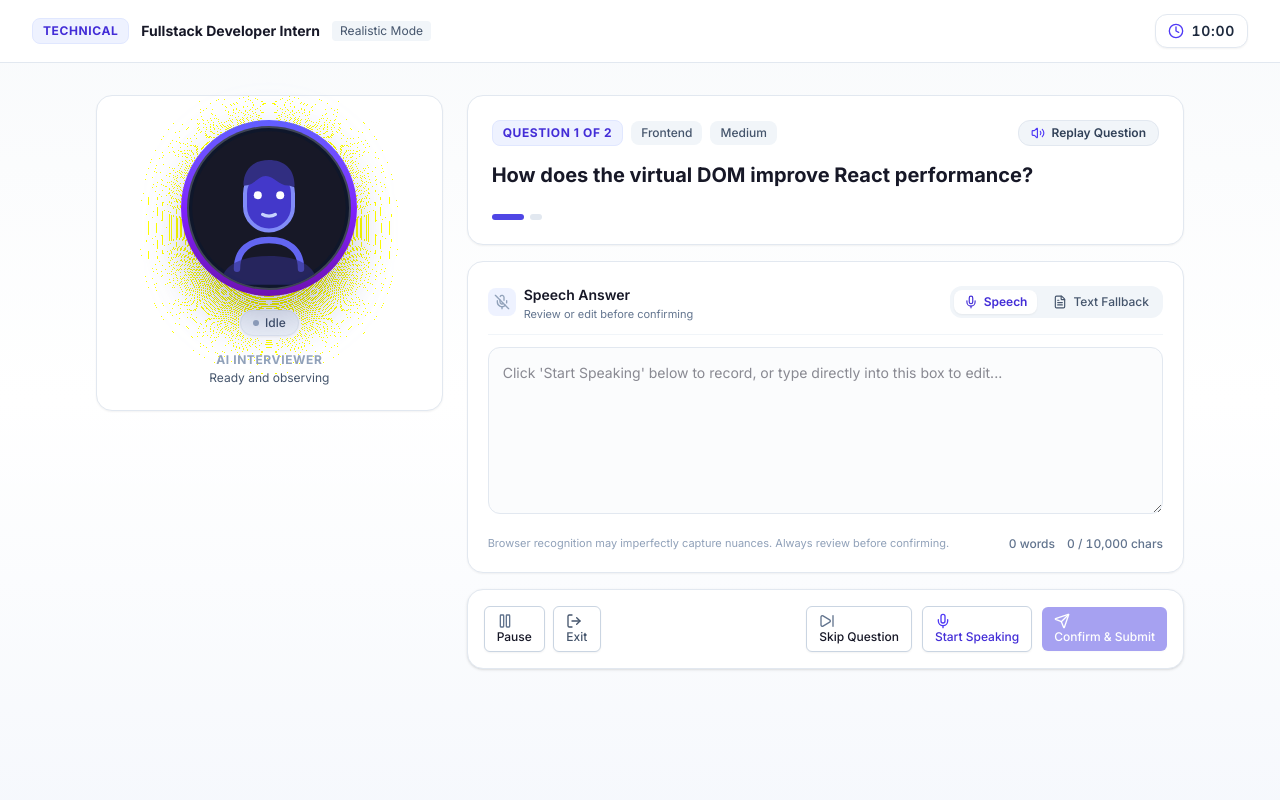
Test: InterviewRoomPage Full Integration › allows entering text answer and submitting to server
The width and height of the screenshot is (1280, 800).
Expected: the heading "How does the virtual DOM improve React performance?" is shown, [492,163,1033,187]
Note: Switch to Text Fallback mode
Step 1. Click the button "Text Fallback" → (1101, 302), box [1044,290,1159,314]
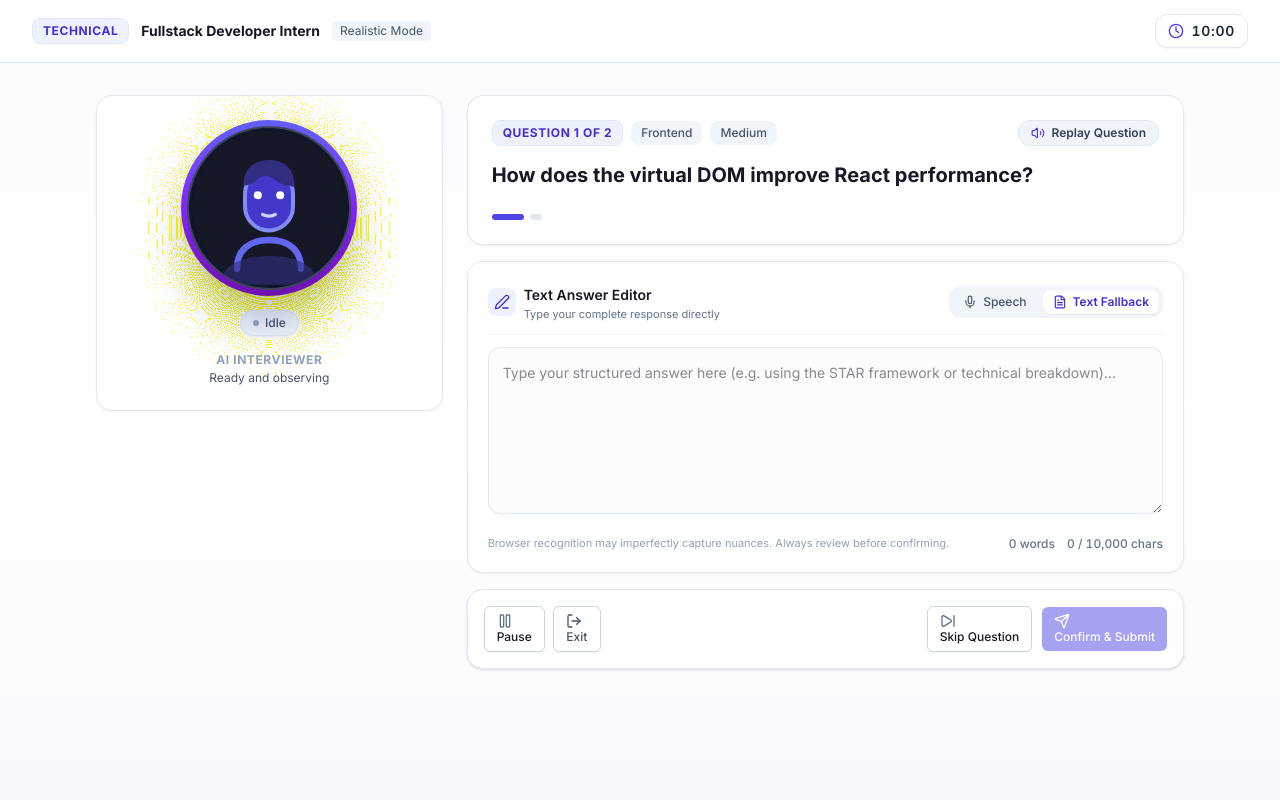
Note: Type answer
Step 2. Replace the text in the text box named "answer transcript and editor" with "The virtual DOM batches updates and computes minimal DOM diffs." → (825, 430), box [488,347,1163,514]
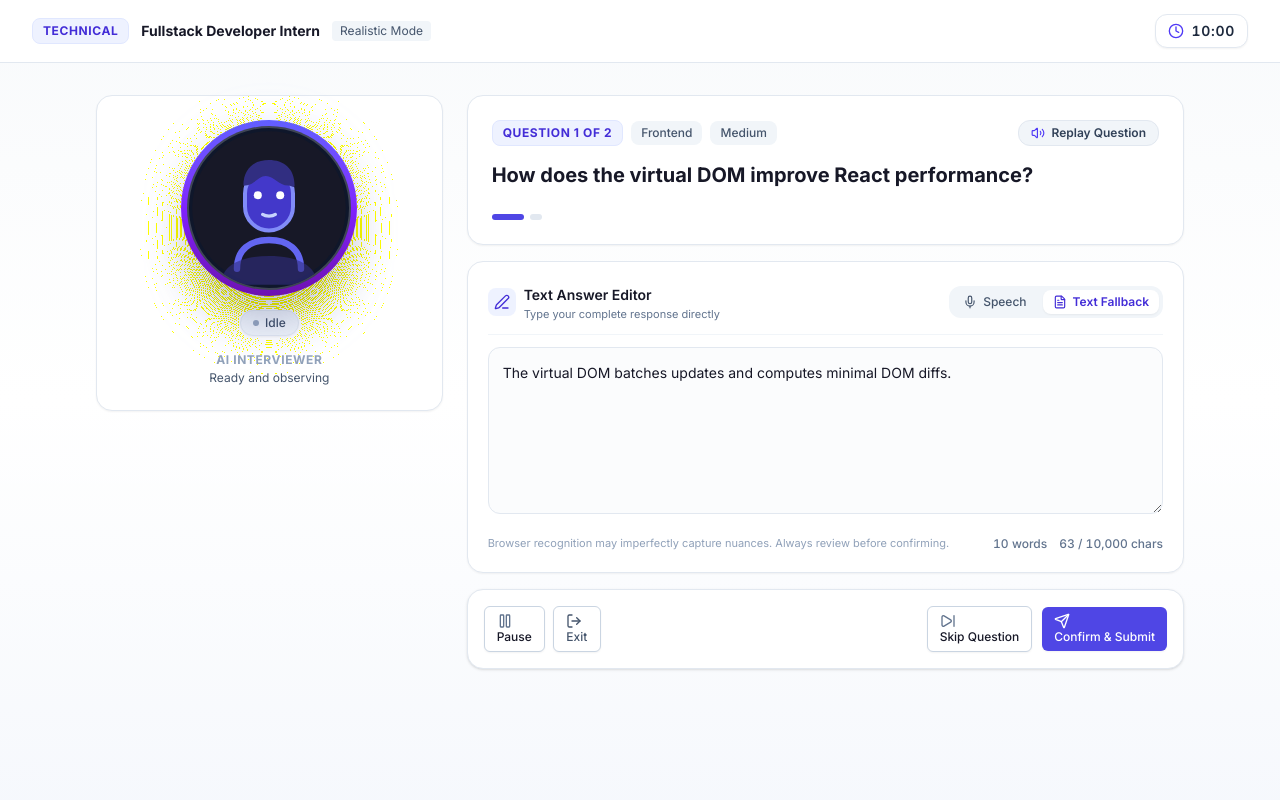
Now the button "Confirm & Submit" is enabled
Step 3. Click the button "Confirm & Submit" → (1105, 628), box [1042,606,1167,650]
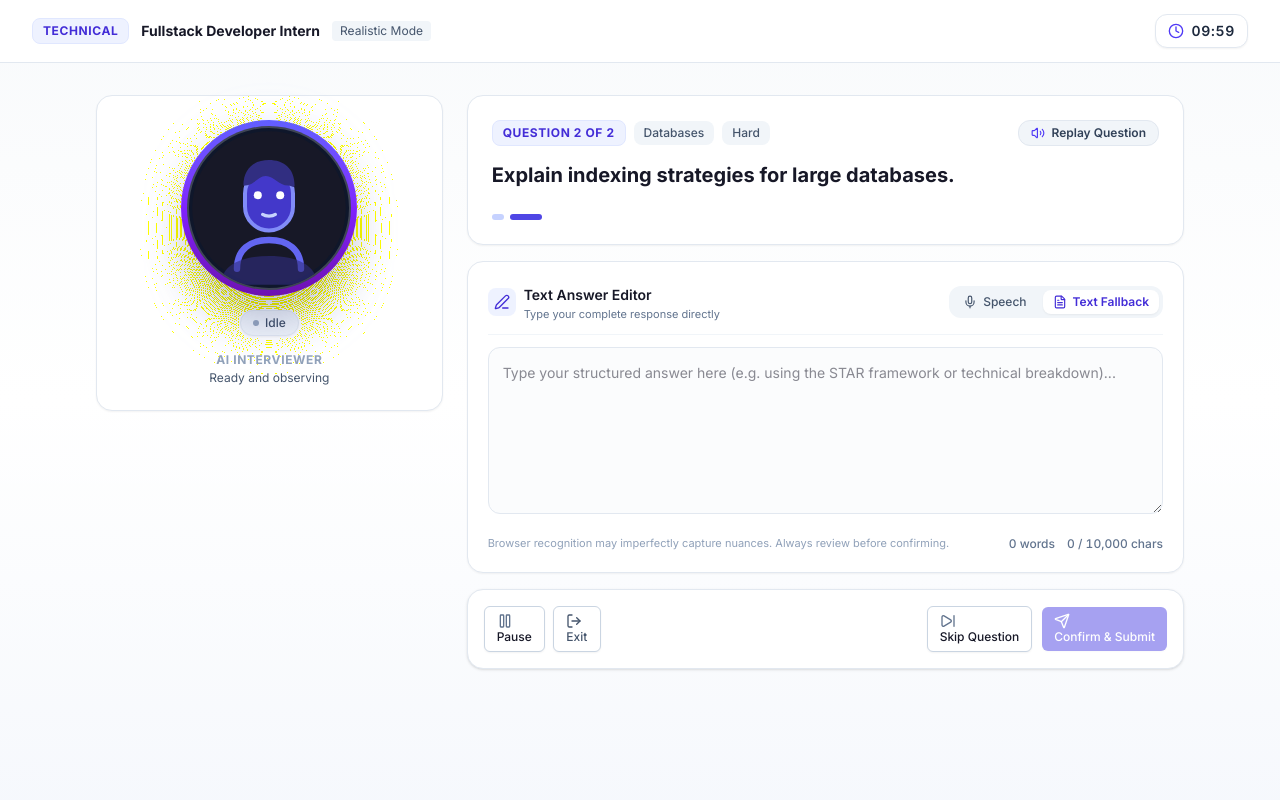
Now the heading "Explain indexing strategies for large databases." is shown, box [492,163,955,187]
Now the text "Question 2 of 2" is shown, box [492,120,626,146]
